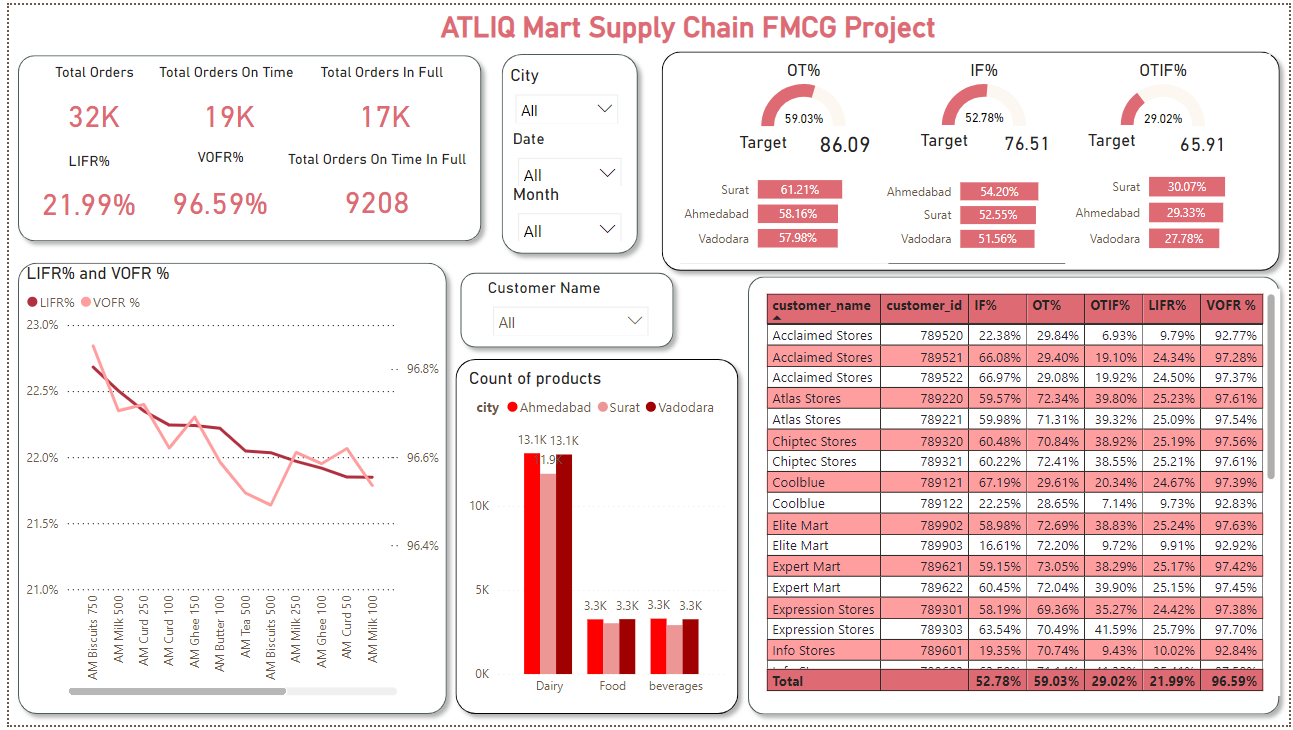

This screenshot's page, from the dashboard's own definition file:
{"tool":"powerbi","page":{"name":"Overview","canvas":[1280,720],"ordinal":0},"visuals":[{"type":"group","id":"g1","title":"page nav + BG","box":[0,0,160,720],"z":0},{"type":"shape","box":[0,0,130,720],"z":0,"group":"g1"},{"type":"shape","box":[150,5,500,64],"z":0,"group":"g6"},{"type":"shape","box":[672,5,600,64],"z":0,"group":"g2"},{"type":"shape","box":[170,80,1100,80],"z":0,"group":"g4"},{"type":"shape","box":[170,165,620,150],"z":0,"group":"g7"},{"type":"shape","box":[794,165,482.2,214.8],"z":0,"group":"g3"},{"type":"shape","box":[170,320,620,400],"z":0,"group":"g8"},{"type":"shape","box":[794,390,484,328],"z":0,"group":"g5"},{"type":"group","id":"g2","title":"Group 4","box":[672,5,600,64],"z":1000},{"type":"slicer","title":"Customer''s","fields":{"Values":["dim_customers.customer_name"]},"box":[483,7.7,161.6,54.9],"z":1000,"group":"g6"},{"type":"textbox","box":[676.8,8.4,585.6,54.9],"z":1000,"group":"g2"},{"type":"card","title":"Total Orders","fields":{"Values":["New Measures (2).Total Orders"]},"box":[178.9,87,152.6,64],"z":1000,"group":"g4"},{"type":"clusteredColumnChart","title":"Product Counts","fields":{"Category":["dim_products.category"],"Y":["CountNonNull(fact_order_lines.product_id)"],"Series":["dim_customers.city"]},"box":[802.1,171.3,466.1,202.2],"z":1000,"group":"g3"},{"type":"gauge","title":"OT% ","fields":{"Y":["New Measures (2).OT%"],"TargetValue":["New Measures (2).On time target"]},"box":[179.8,171.5,203.1,99.1],"z":1000,"group":"g7"},{"type":"lineChart","title":"LIFR% and VOFR %","fields":{"Category":["dim_products.product_name"],"Y":["New Measures (2).LIFR%"],"Y2":["New Measures (2).VOFR %"]},"box":[174.6,326.1,609.9,387.9],"z":1000,"group":"g8"},{"type":"advancedSlicerVisual","title":"Month","fields":{"Values":["dim_date.mmm_yy"]},"box":[10,360,150,300],"z":1000,"group":"g1"},{"type":"tableEx","fields":{"Values":["dim_customers.customer_name","dim_customers.customer_id","dim_customers.city","New Measures (2).IF%","New Measures (2).OT%","New Measures (2).OTIF%"]},"box":[798,393,479,320],"z":1000,"group":"g5"},{"type":"slicer","title":"Day","fields":{"Values":["dim_date.d_mmm"]},"box":[322.4,7.7,161.6,54.9],"z":2000,"group":"g6"},{"type":"pageNavigator","box":[10,75,150,250],"z":2000,"group":"g1"},{"type":"card","title":"Total Orders In Full","fields":{"Values":["Sum(fact_orders_aggregate.in_full)"]},"box":[536.2,87,183.1,64],"z":2000,"group":"g4"},{"type":"group","id":"g3","title":"Group 2","box":[794,165,486,220],"z":2000},{"type":"card","title":"Target","fields":{"Values":["New Measures (2).On time target"]},"box":[302.6,275.3,90.3,35.2],"z":2000,"group":"g7"},{"type":"slicer","title":"City","fields":{"Values":["dim_customers.city"]},"box":[160.8,7.7,161.6,54.9],"z":3000,"group":"g6"},{"type":"group","id":"g4","title":"KPI Cards","box":[170,80,1100,80],"z":3000},{"type":"card","title":"Total Orders On Time","fields":{"Values":["Sum(fact_orders_aggregate.on_time)"]},"box":[332.8,87,216.2,64],"z":3000,"group":"g4"},{"type":"textbox","box":[188.3,275.3,73.3,32.7],"z":3000,"group":"g7"},{"type":"card","title":"LIFR%","fields":{"Values":["New Measures (2).LIFR%"]},"box":[719.4,87,142.4,64],"z":4000,"group":"g4"},{"type":"gauge","title":"IF% ","fields":{"TargetValue":["New Measures (2).On time target"],"Y":["New Measures (2).IF%"]},"box":[378.4,171.5,203.1,99.1],"z":4000,"group":"g7"},{"type":"group","id":"g5","title":"Group 3","box":[794,390,484,328],"z":4000},{"type":"group","id":"g6","title":"Group 1","box":[150,5,500,64],"z":5000},{"type":"card","title":"VOFR%","fields":{"Values":["New Measures (2).VOFR %"]},"box":[861.8,87,146.2,64],"z":5000,"group":"g4"},{"type":"textbox","box":[371.7,275.3,91.7,32.7],"z":5000,"group":"g7"},{"type":"card","title":"Total Orders On Time In Full","fields":{"Values":["Sum(fact_orders_aggregate.otif)"]},"box":[1001.7,87,254.3,64],"z":6000,"group":"g4"},{"type":"group","id":"g7","title":"gauge","box":[170,165,620,150],"z":6000},{"type":"card","title":"Target","fields":{"Values":["New Measures (2).In Full Target"]},"box":[506.5,275.3,90.3,35.2],"z":6000,"group":"g7"},{"type":"gauge","title":"OTIF% ","fields":{"TargetValue":["New Measures (2).On time target"],"Y":["New Measures (2).OTIF%"]},"box":[578.2,170.8,203.1,99.1],"z":7000,"group":"g7"},{"type":"group","id":"g8","title":"Group 3","box":[170,320,620,400],"z":7000},{"type":"textbox","box":[573.4,275.3,91.7,32.7],"z":8000,"group":"g7"},{"type":"card","title":"Target","fields":{"Values":["New Measures (2).On Time In Full target"]},"box":[693.5,275.3,90.3,35.2],"z":9000,"group":"g7"}]}

Visuals, with their boxes in screenshot pixels (x1, y1, x2, y2), scaled from the page's 1280x720 canvas onto the 1293x730 screenshot:
"page nav + BG" group: 0/0/162/729
shape: 0/0/131/729
shape: 152/5/657/70
shape: 679/5/1285/70
shape: 172/81/1283/162
shape: 172/167/798/319
shape: 802/167/1289/385
shape: 172/324/798/729
shape: 802/395/1291/728
"Group 4" group: 679/5/1285/70
"Customer''s" slicer: 488/8/651/63
textbox: 684/9/1275/64
"Total Orders" card: 181/88/335/153
"Product Counts" clusteredColumnChart: 810/174/1281/379
"OT% " gauge: 182/174/387/274
"LIFR% and VOFR %" lineChart: 176/331/792/724
"Month" advancedSlicerVisual: 10/365/162/669
tableEx - dim_customers.customer_name x dim_customers.customer_id: 806/398/1290/723
"Day" slicer: 326/8/489/63
pageNavigator: 10/76/162/330
"Total Orders In Full" card: 542/88/727/153
"Group 2" group: 802/167/1292/390
"Target" card: 306/279/397/315
"City" slicer: 162/8/326/63
"KPI Cards" group: 172/81/1283/162
"Total Orders On Time" card: 336/88/555/153
textbox: 190/279/264/312
"LIFR%" card: 727/88/871/153
"IF% " gauge: 382/174/587/274
"Group 3" group: 802/395/1291/728
"Group 1" group: 152/5/657/70
"VOFR%" card: 871/88/1018/153
textbox: 375/279/468/312
"Total Orders On Time In Full" card: 1012/88/1269/153
"gauge" group: 172/167/798/319
"Target" card: 512/279/603/315
"OTIF% " gauge: 584/173/789/274
"Group 3" group: 172/324/798/729
textbox: 579/279/672/312
"Target" card: 701/279/792/315
